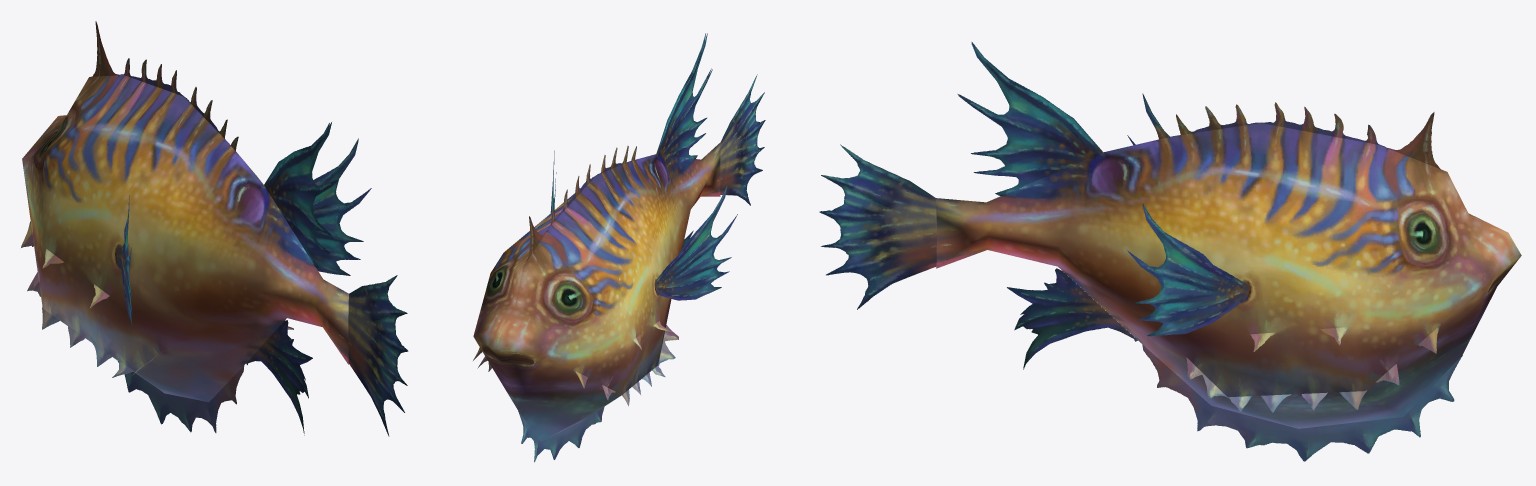
The model's file is PezGlobo.obj.
3 views of the same model, side by side, from view 1: azimuth 30°, elevation 25°; view 2: azimuth 150°, elevation 25°; view 3: azimuth 270°, elevation 25° (orthographic). The views are drawn at different scales.
Visible parts, largest first — view 1: ??_0; view 2: ??_0; view 3: ??_0.
Boxes of the visible parts, bbox=[...] form: ??_0: bbox=[21, 21, 408, 436]; ??_0: bbox=[473, 33, 765, 462]; ??_0: bbox=[819, 42, 1521, 461].
Bounding box in the file's own units: 6.97 × 10.4 × 14.52.
Materials: 1 (1 with a texture image).
